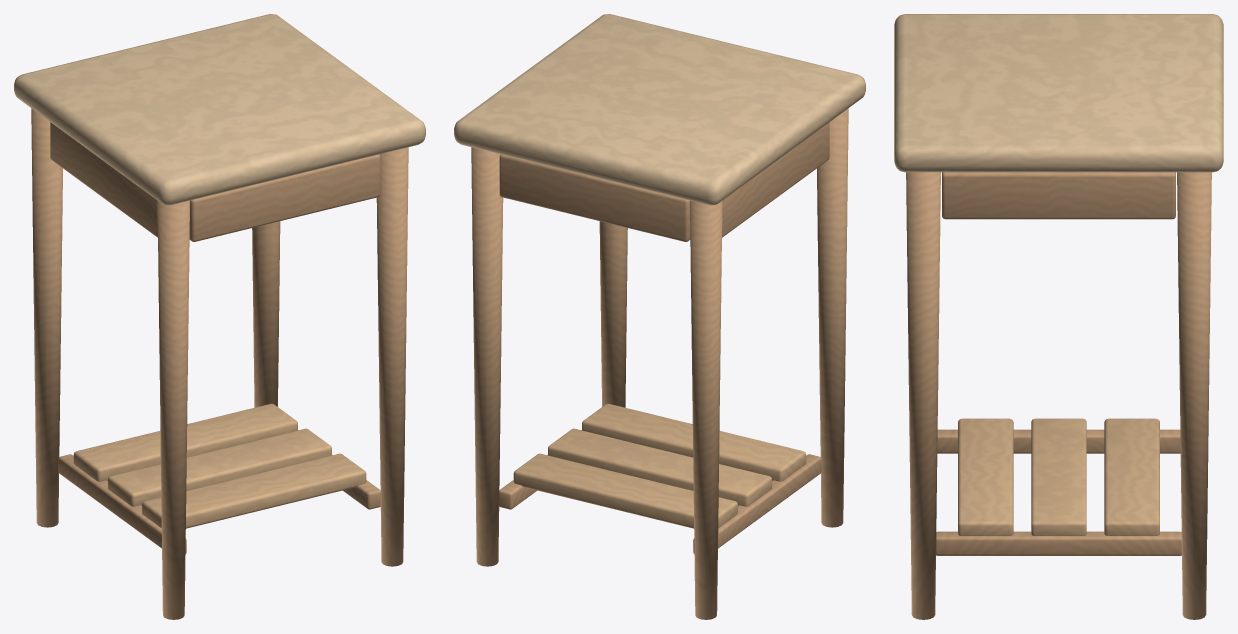
Rendered from trumua-side-table.glb.
The picture shows the model from 3 angles, left to right: view 1: azimuth 30°, elevation 25°; view 2: azimuth 150°, elevation 25°; view 3: azimuth 270°, elevation 25°; orthographic projection. The views are drawn at different scales.
Parts seen in each view (by area): view 1: trumua-side-table; view 2: trumua-side-table; view 3: trumua-side-table.
Part boxes in pixels (box(x1,y1,x2,y2)): trumua-side-table: box(14, 14, 425, 619); trumua-side-table: box(454, 14, 865, 619); trumua-side-table: box(894, 14, 1223, 619).
Bounding box in the file's own units: 0.45 × 0.72 × 0.45.
1 material, 1 textured.
